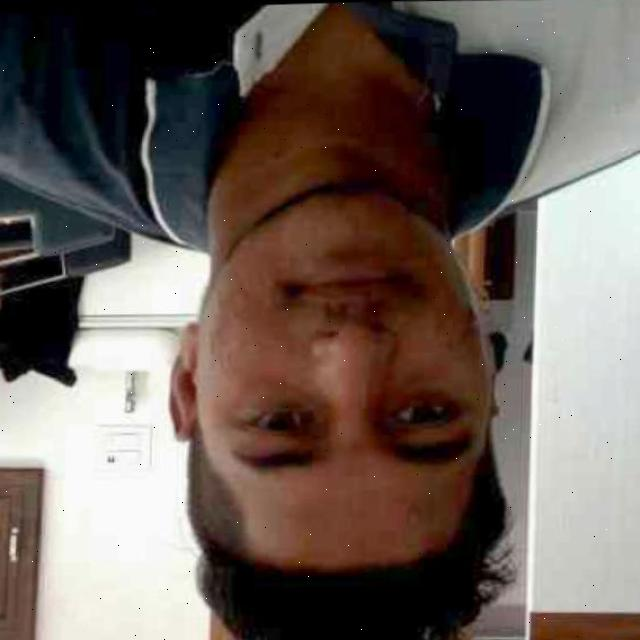puffy_eyes: (235, 382, 320, 415)
